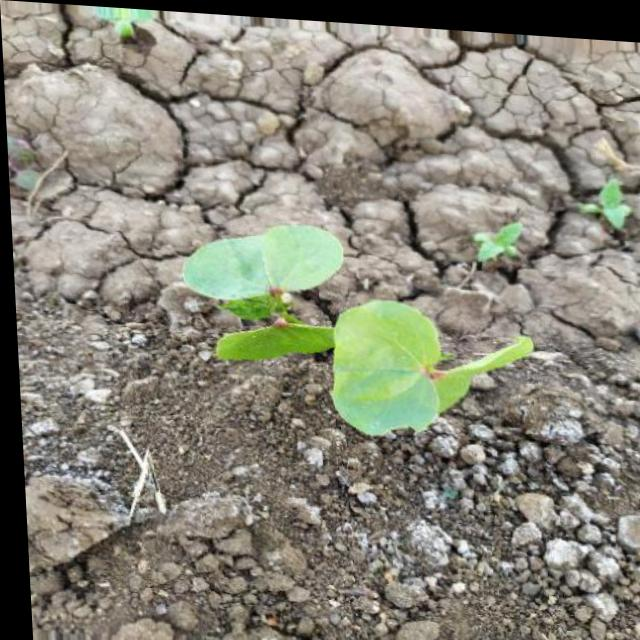weed: (169, 218, 564, 460)
